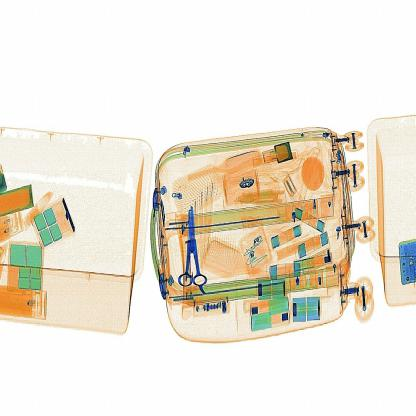gun: (176, 202, 216, 298)
